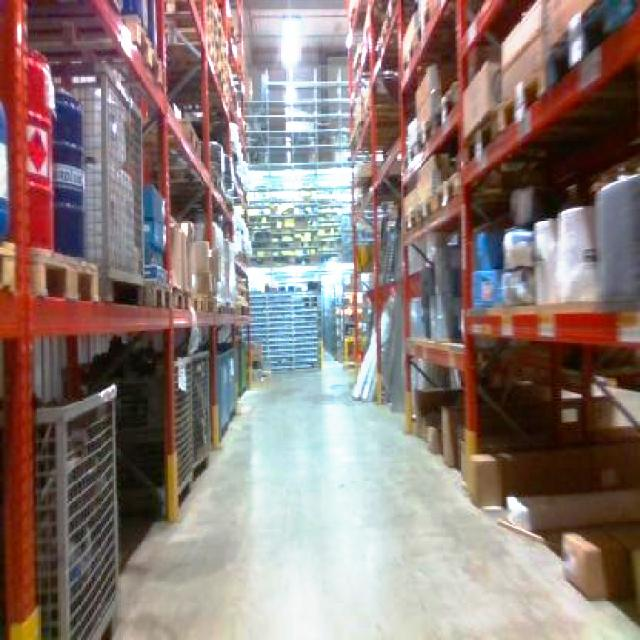ground: (98, 343, 638, 638)
pallet: (343, 0, 638, 638), (402, 329, 638, 638), (31, 382, 120, 638), (246, 288, 320, 371)
